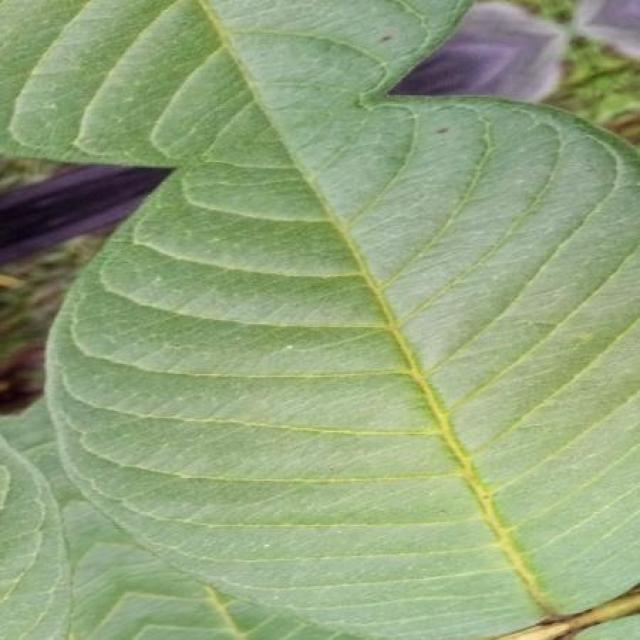Disease Free: (0, 0, 640, 639)
